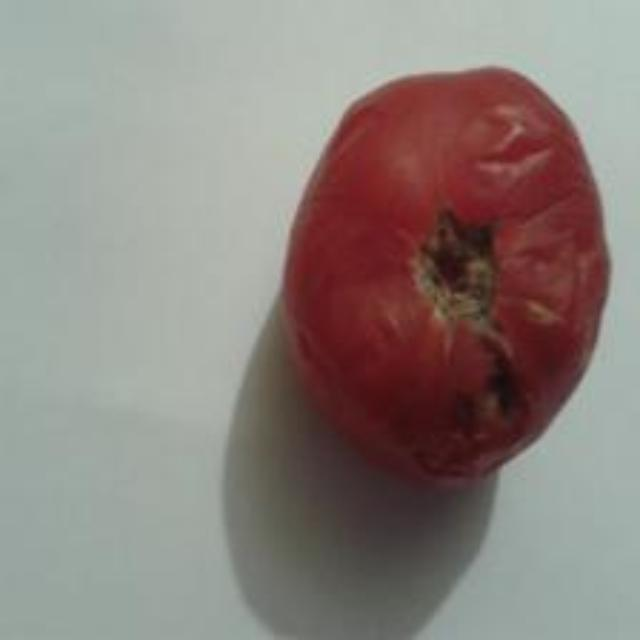defect: (277, 51, 620, 493)
